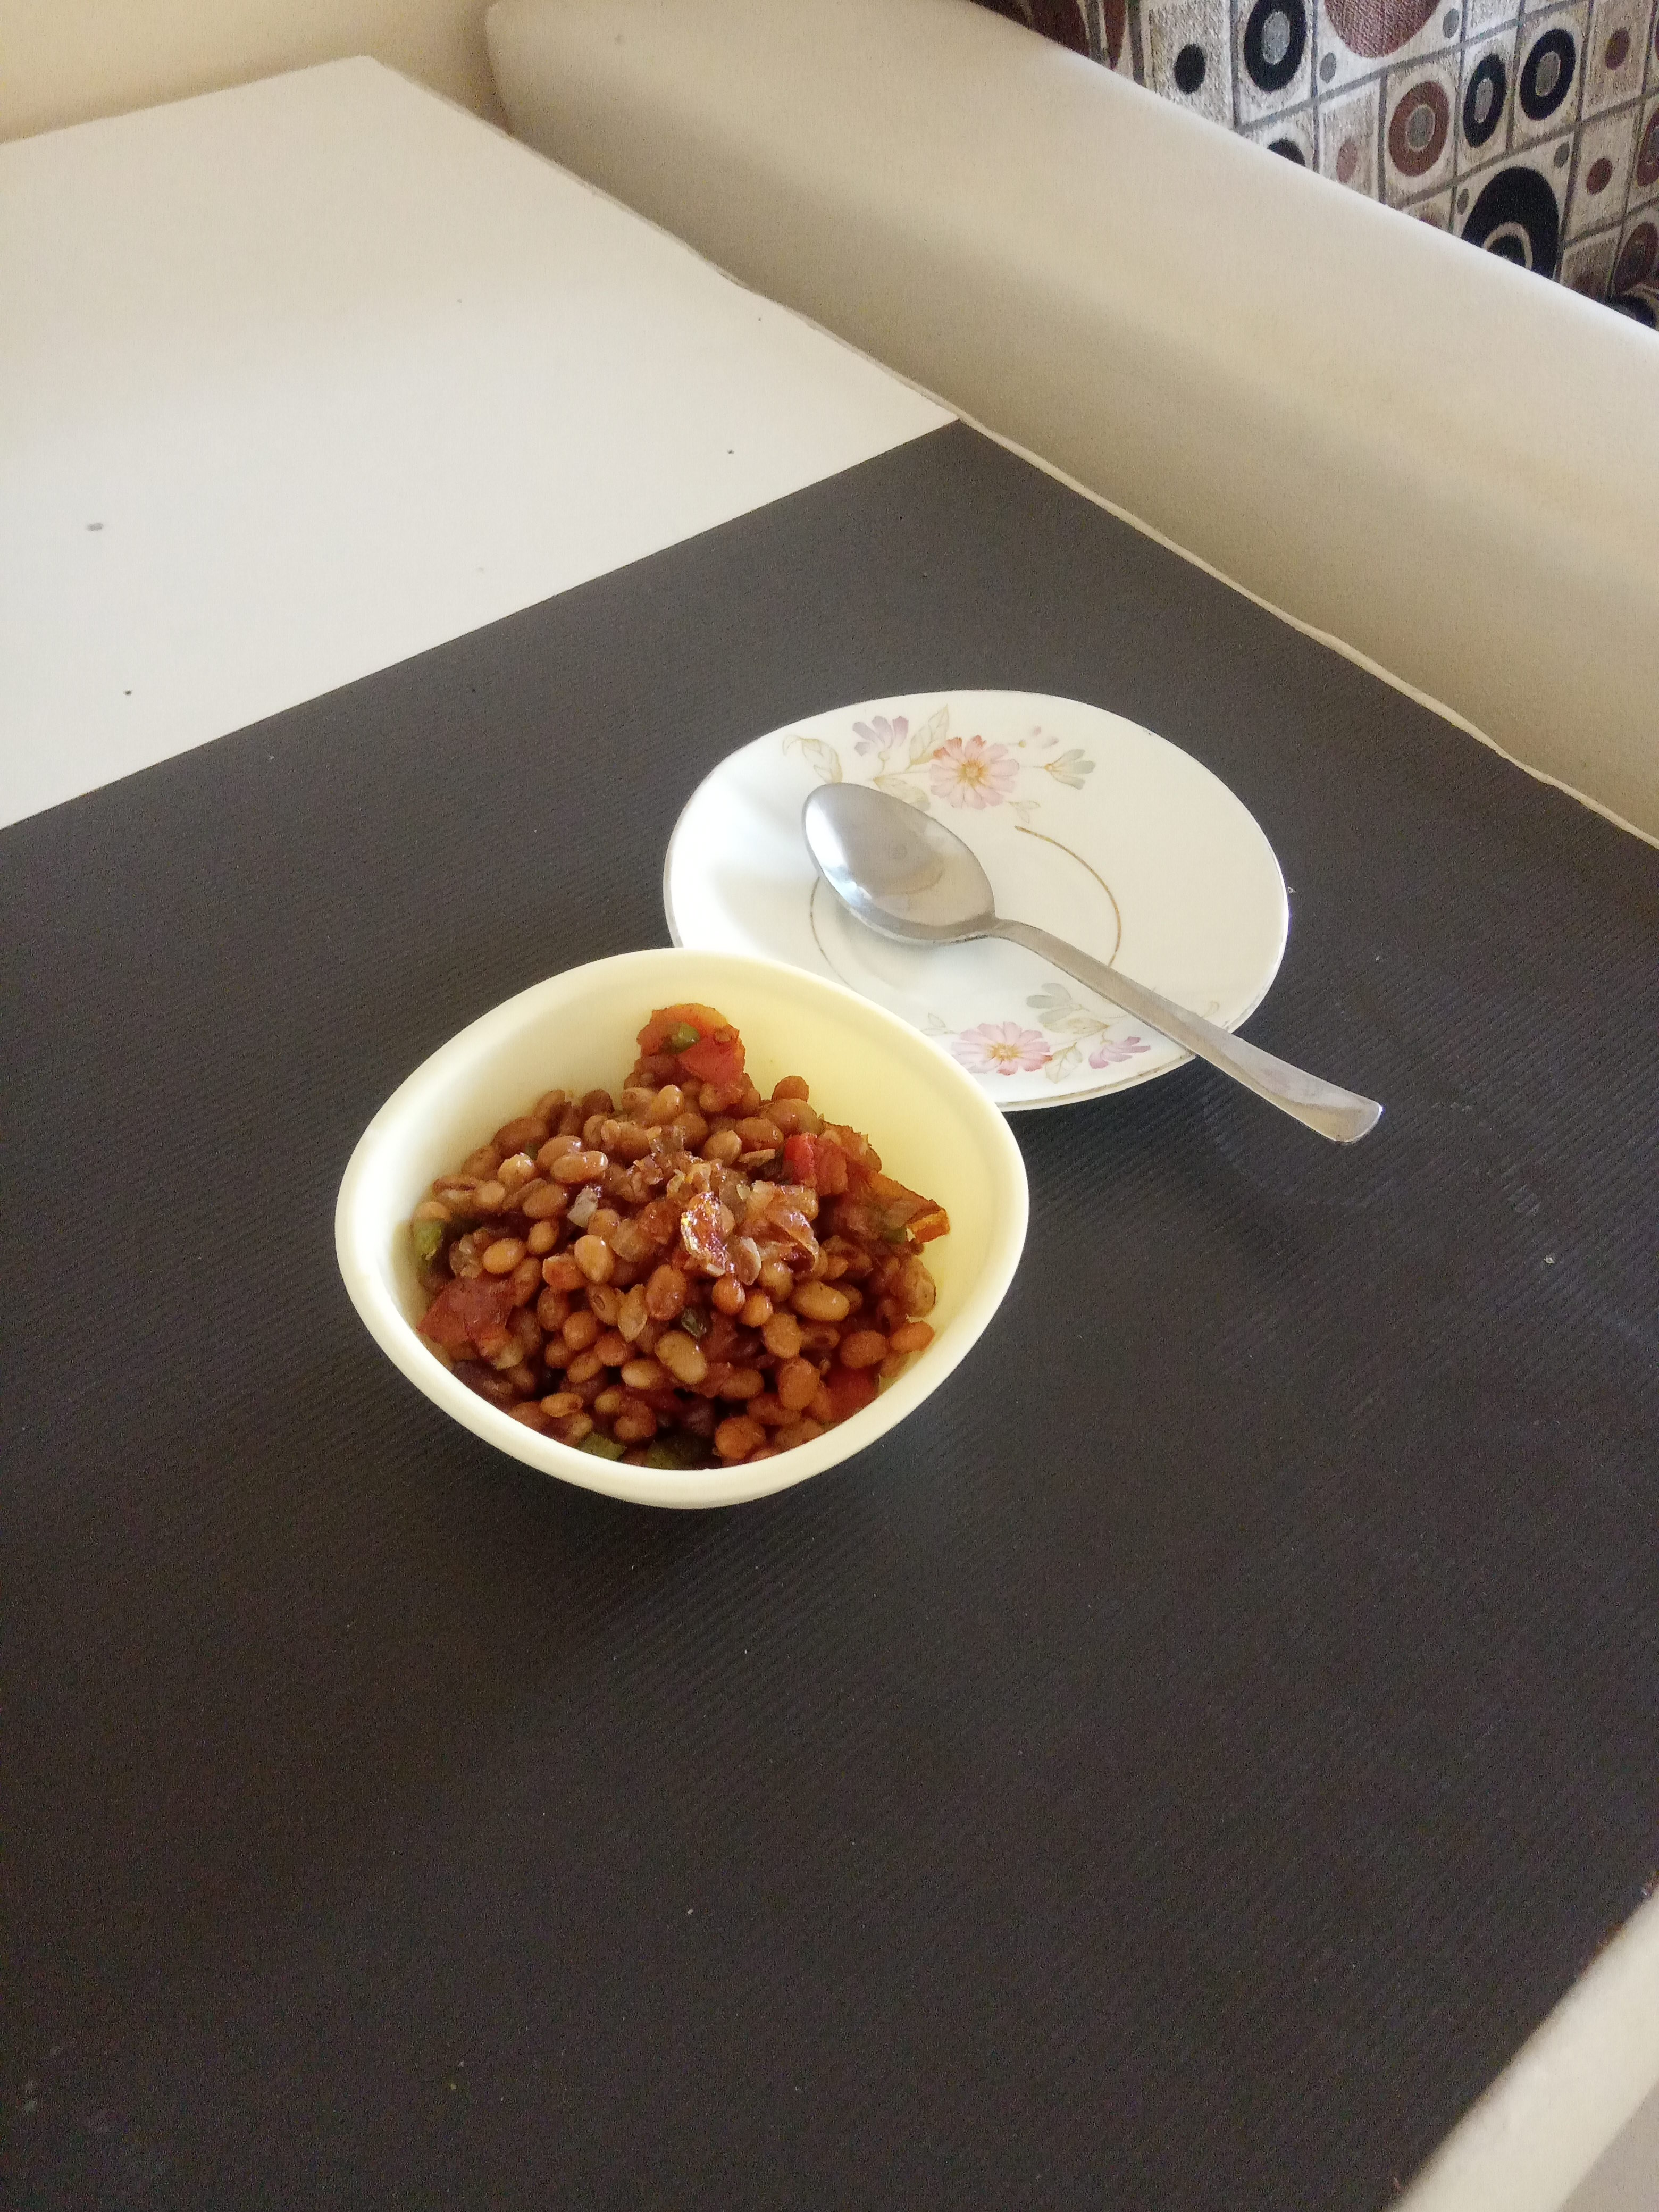food: (404, 984, 965, 1472)
